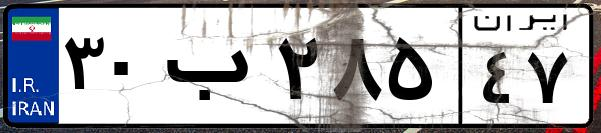0: (110, 28, 158, 98)
2: (270, 28, 330, 110)
3: (57, 26, 110, 100)
4: (475, 38, 525, 113)
5: (385, 28, 445, 110)
7: (525, 38, 570, 115)
8: (330, 28, 385, 110)
ب: (158, 20, 270, 120)
